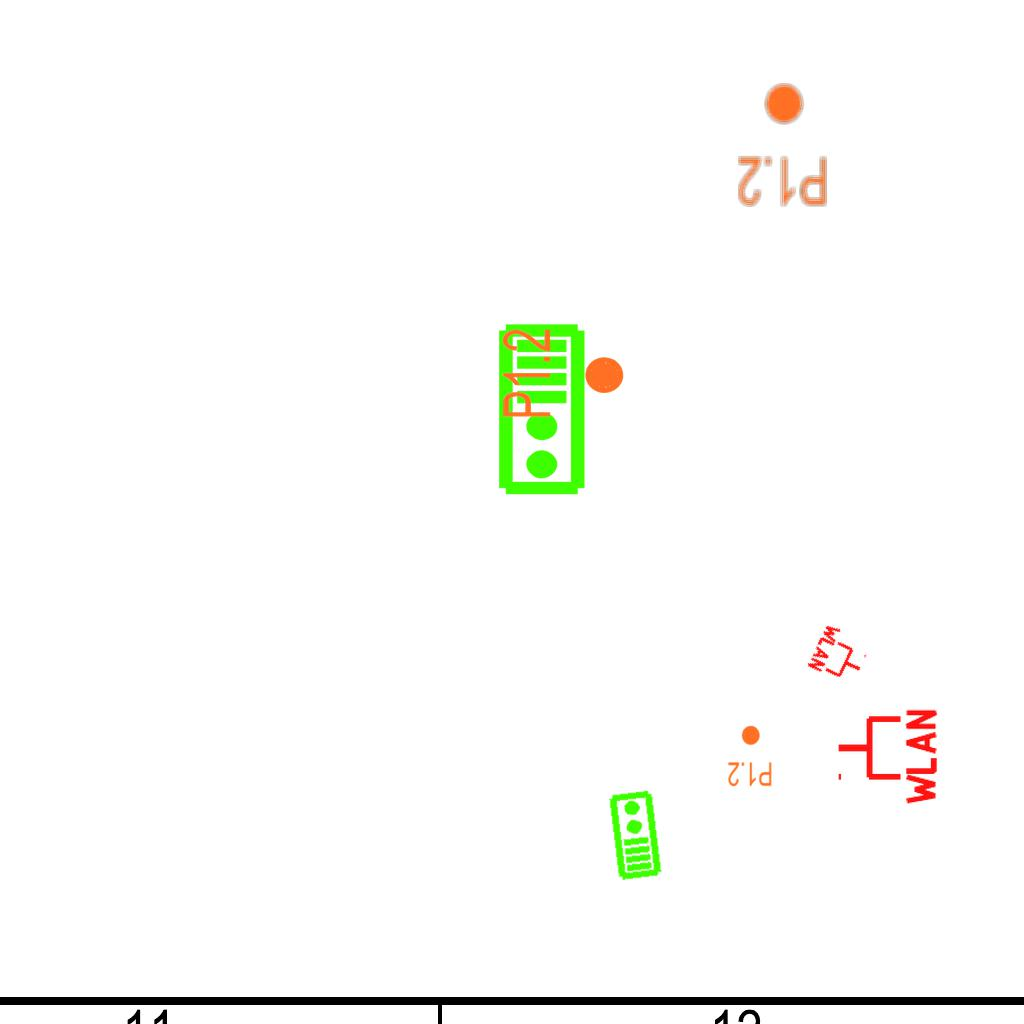Downlight_LED_Einbauleuchten_Flur: (736, 81, 829, 209), (499, 327, 627, 420), (727, 724, 773, 788)
Gegensprechanlage_mit_Video: (496, 322, 591, 498), (605, 788, 664, 882)
WLAN: (834, 705, 939, 809), (805, 620, 875, 690)
